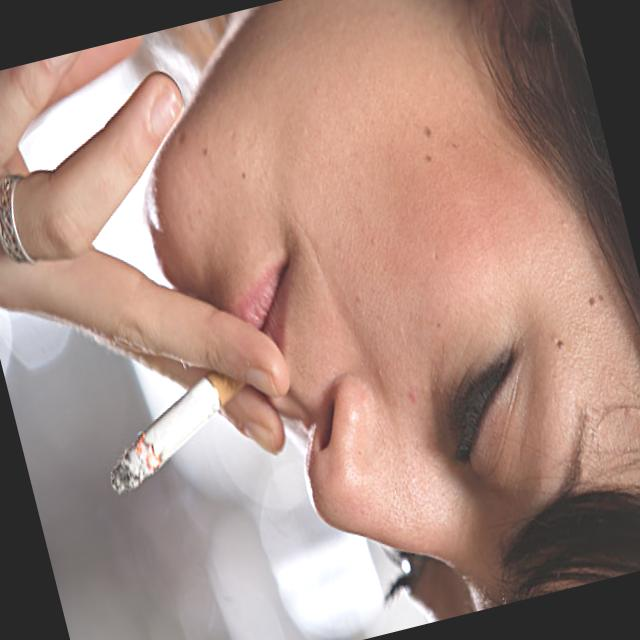cigarette: (88, 378, 238, 502)
